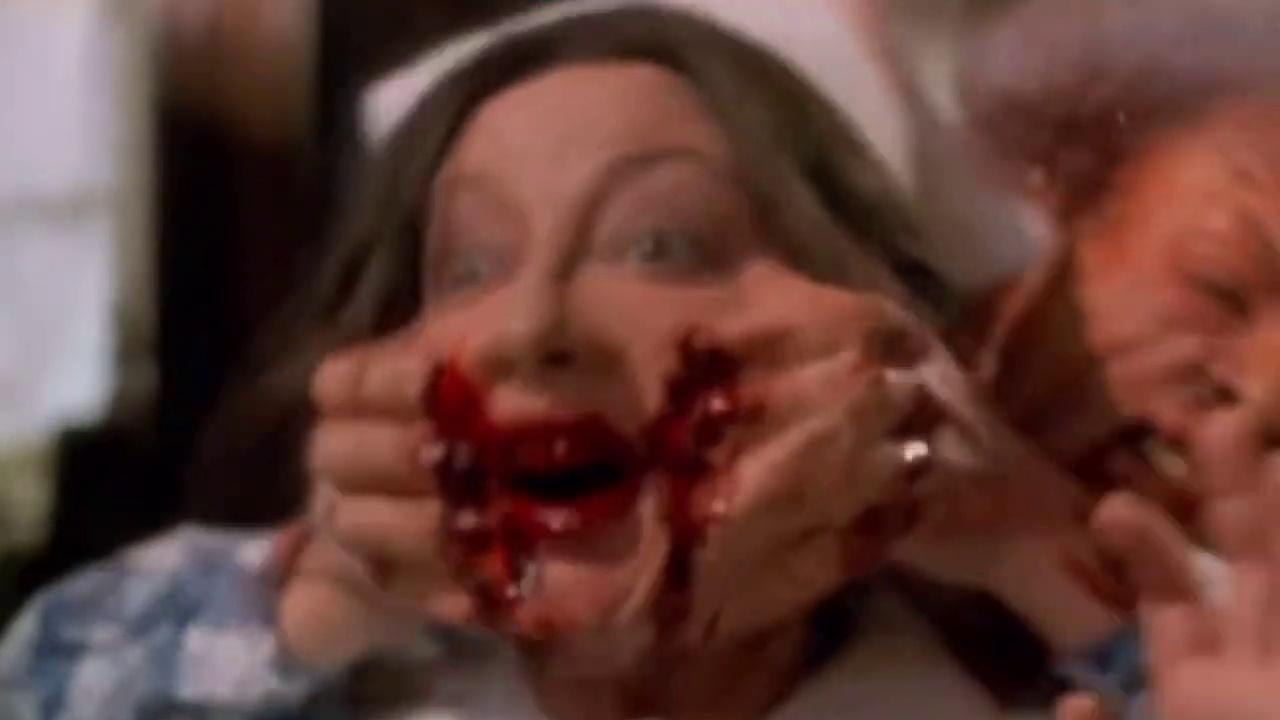Fire: (420, 311, 787, 709), (792, 300, 971, 580), (1050, 518, 1148, 684), (999, 265, 1082, 443), (269, 478, 346, 584)
